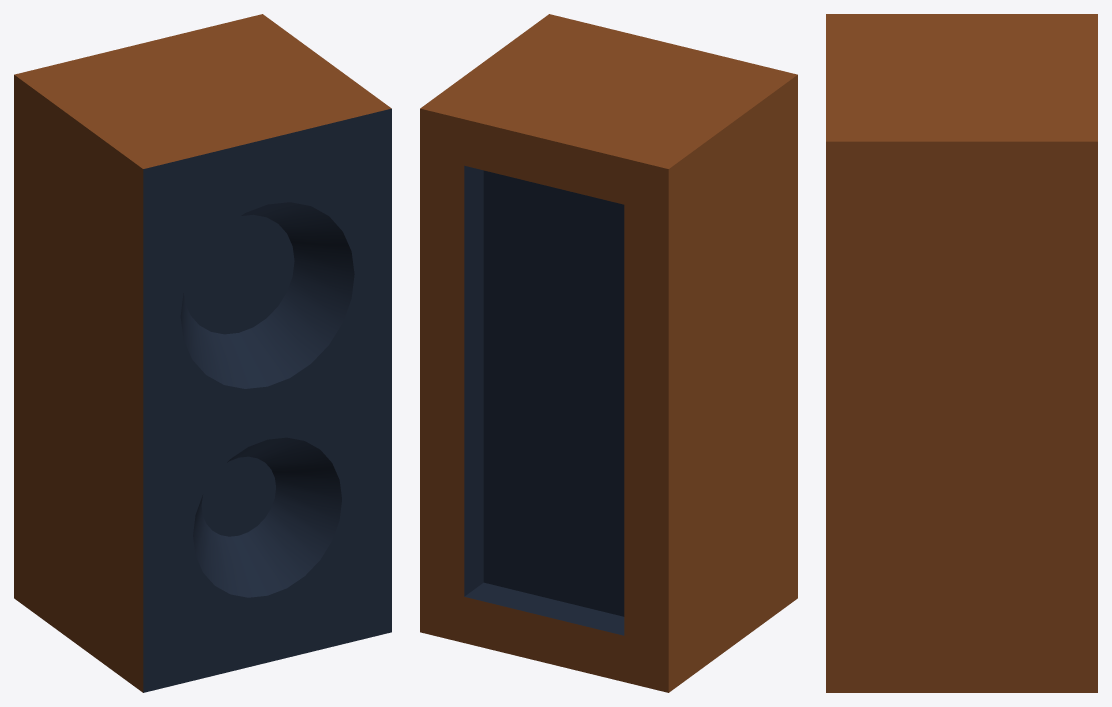
The model's file is speaker.glb.
The picture shows the model from 3 angles, left to right: view 1: azimuth 30°, elevation 25°; view 2: azimuth 150°, elevation 25°; view 3: azimuth 270°, elevation 25°; orthographic projection. The views are drawn at different scales.
Parts seen in each view (by area): view 1: speakerSmall(Clone); view 2: speakerSmall(Clone); view 3: speakerSmall(Clone).
Part boxes in pixels (x1,y1,x2,y2): speakerSmall(Clone): (14,14,391,692); speakerSmall(Clone): (420,14,797,692); speakerSmall(Clone): (826,14,1097,692).
Size of the model in its own units: 0.1192 by 0.24 by 0.1073.
